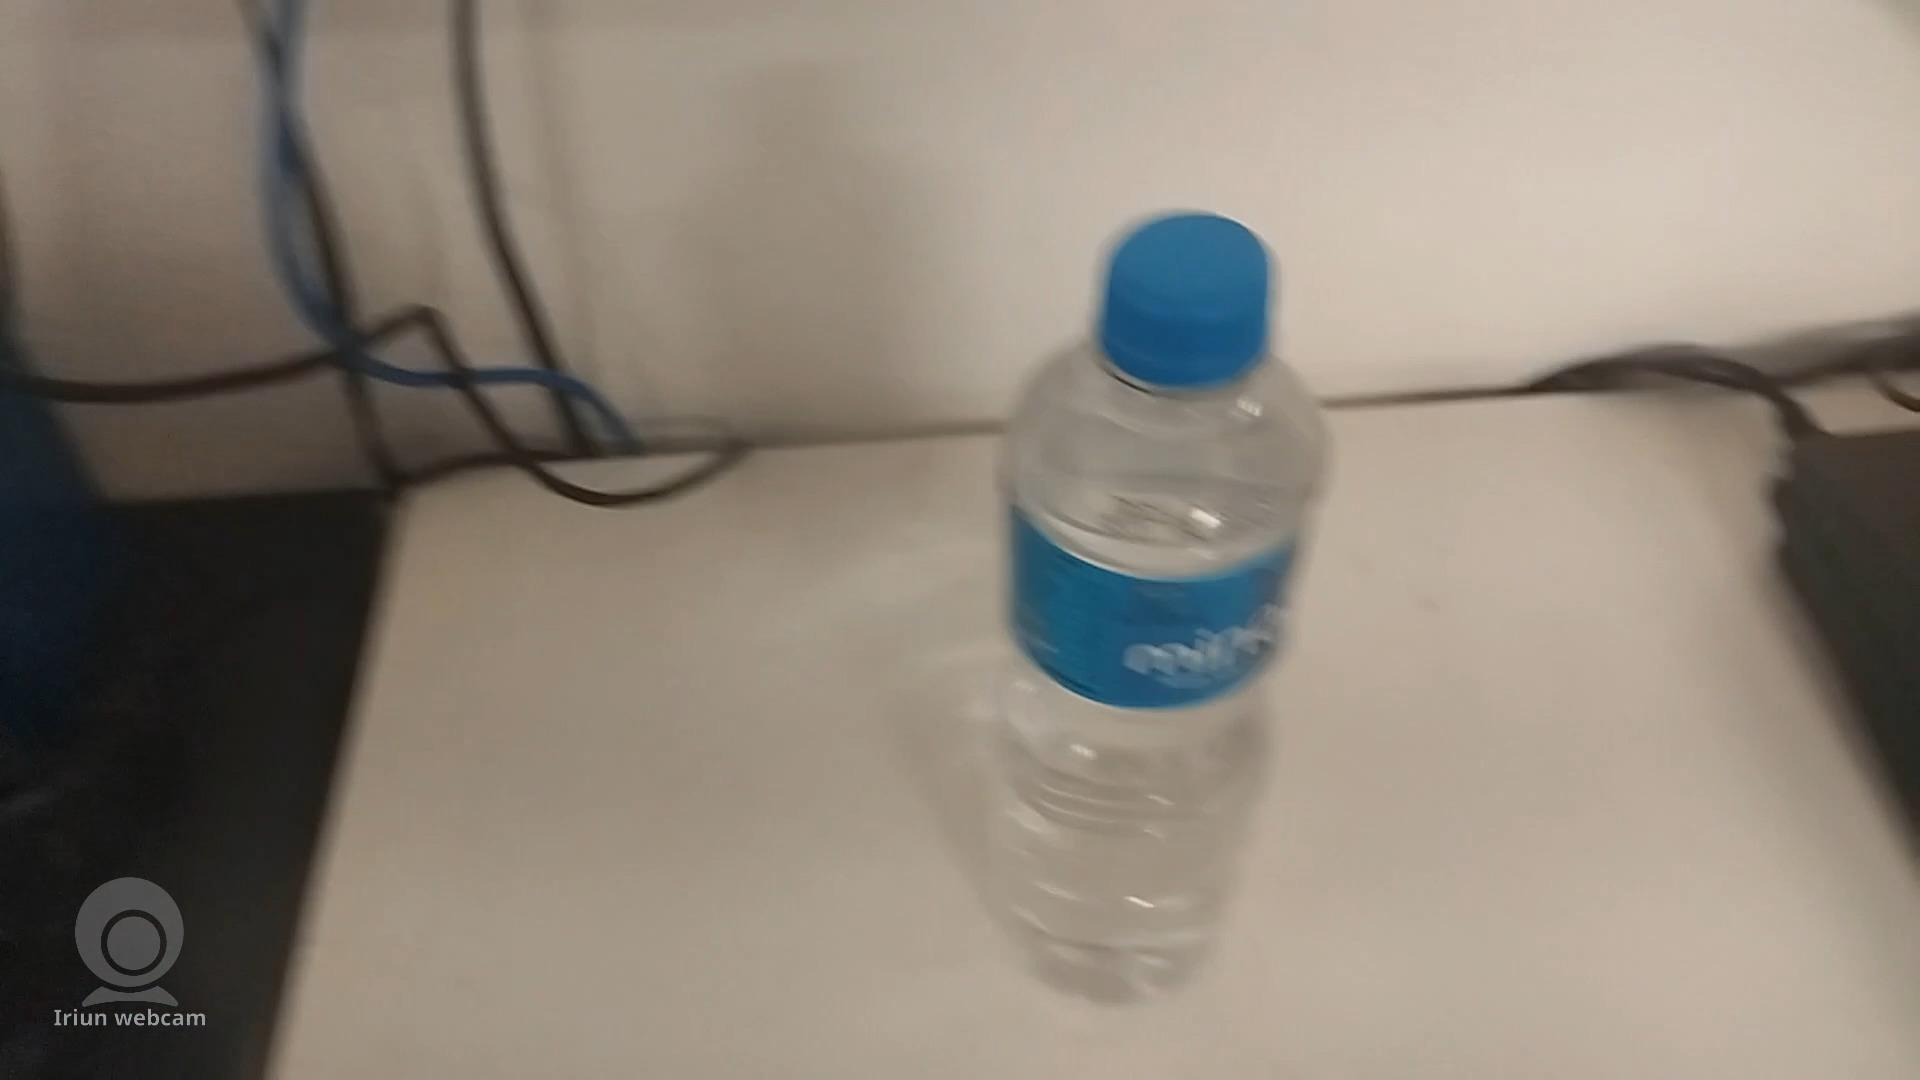agua: (985, 207, 1325, 989)
